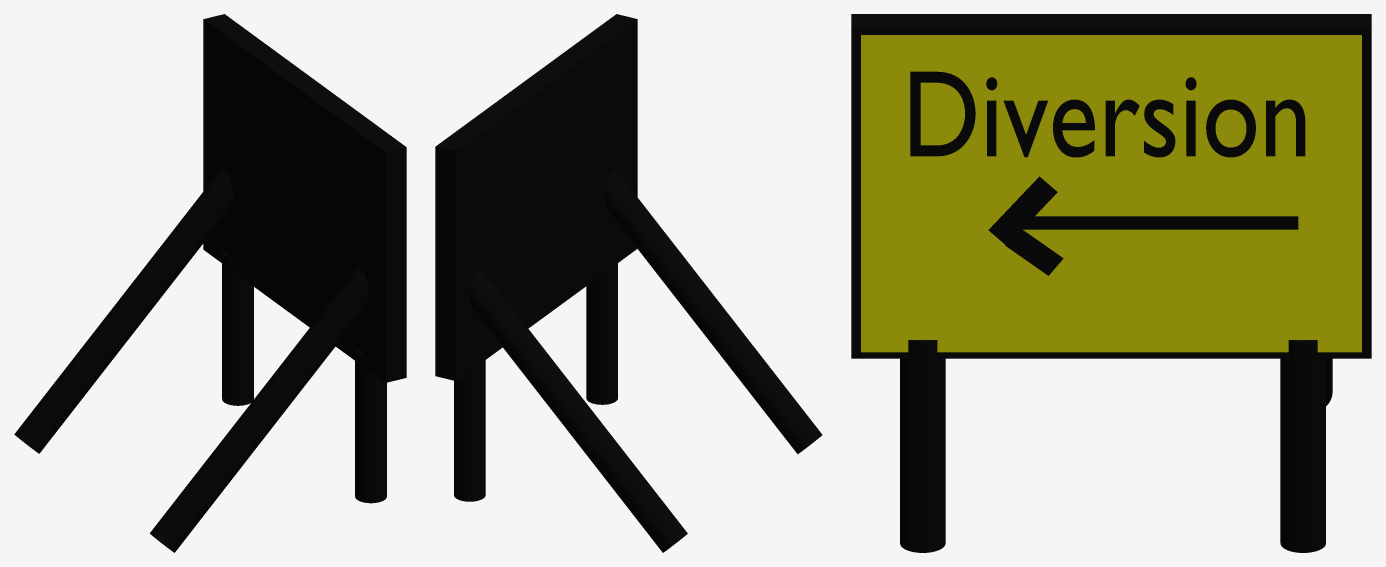
The model's file is uk_diversion_left.fbx.
The picture shows the model from 3 angles, left to right: view 1: azimuth 30°, elevation 25°; view 2: azimuth 150°, elevation 25°; view 3: azimuth 270°, elevation 25°; orthographic projection. The views are drawn at different scales.
Visible parts, largest first — view 1: Cube, Cylinder.003, Cylinder.002, Cylinder, Cylinder.001; view 2: Cube, Cylinder.002, Cylinder.003, Cylinder.001, Cylinder; view 3: Cube, Text, Cylinder, Cylinder.001, Plane, Plane.001, Plane.002.
Boxes of the visible parts, x1,y1,x2,y2 form: Cube: (203, 14, 406, 382); Cylinder.003: (14, 168, 232, 453); Cylinder.002: (150, 267, 368, 552); Cylinder: (355, 348, 386, 503); Cylinder.001: (222, 251, 253, 405); Cube: (435, 14, 637, 381); Cylinder.002: (604, 170, 822, 454); Cylinder.003: (470, 269, 687, 552); Cylinder.001: (454, 347, 485, 501); Cylinder: (586, 250, 617, 404); Cube: (851, 14, 1371, 358); Text: (910, 71, 1305, 157); Cylinder: (900, 340, 945, 552); Cylinder.001: (1280, 340, 1325, 552); Plane: (1021, 216, 1298, 229); Plane.001: (988, 176, 1057, 245); Plane.002: (1005, 229, 1063, 275).
Size of the model in its own units: 25.25 by 38.51 by 34.25.
